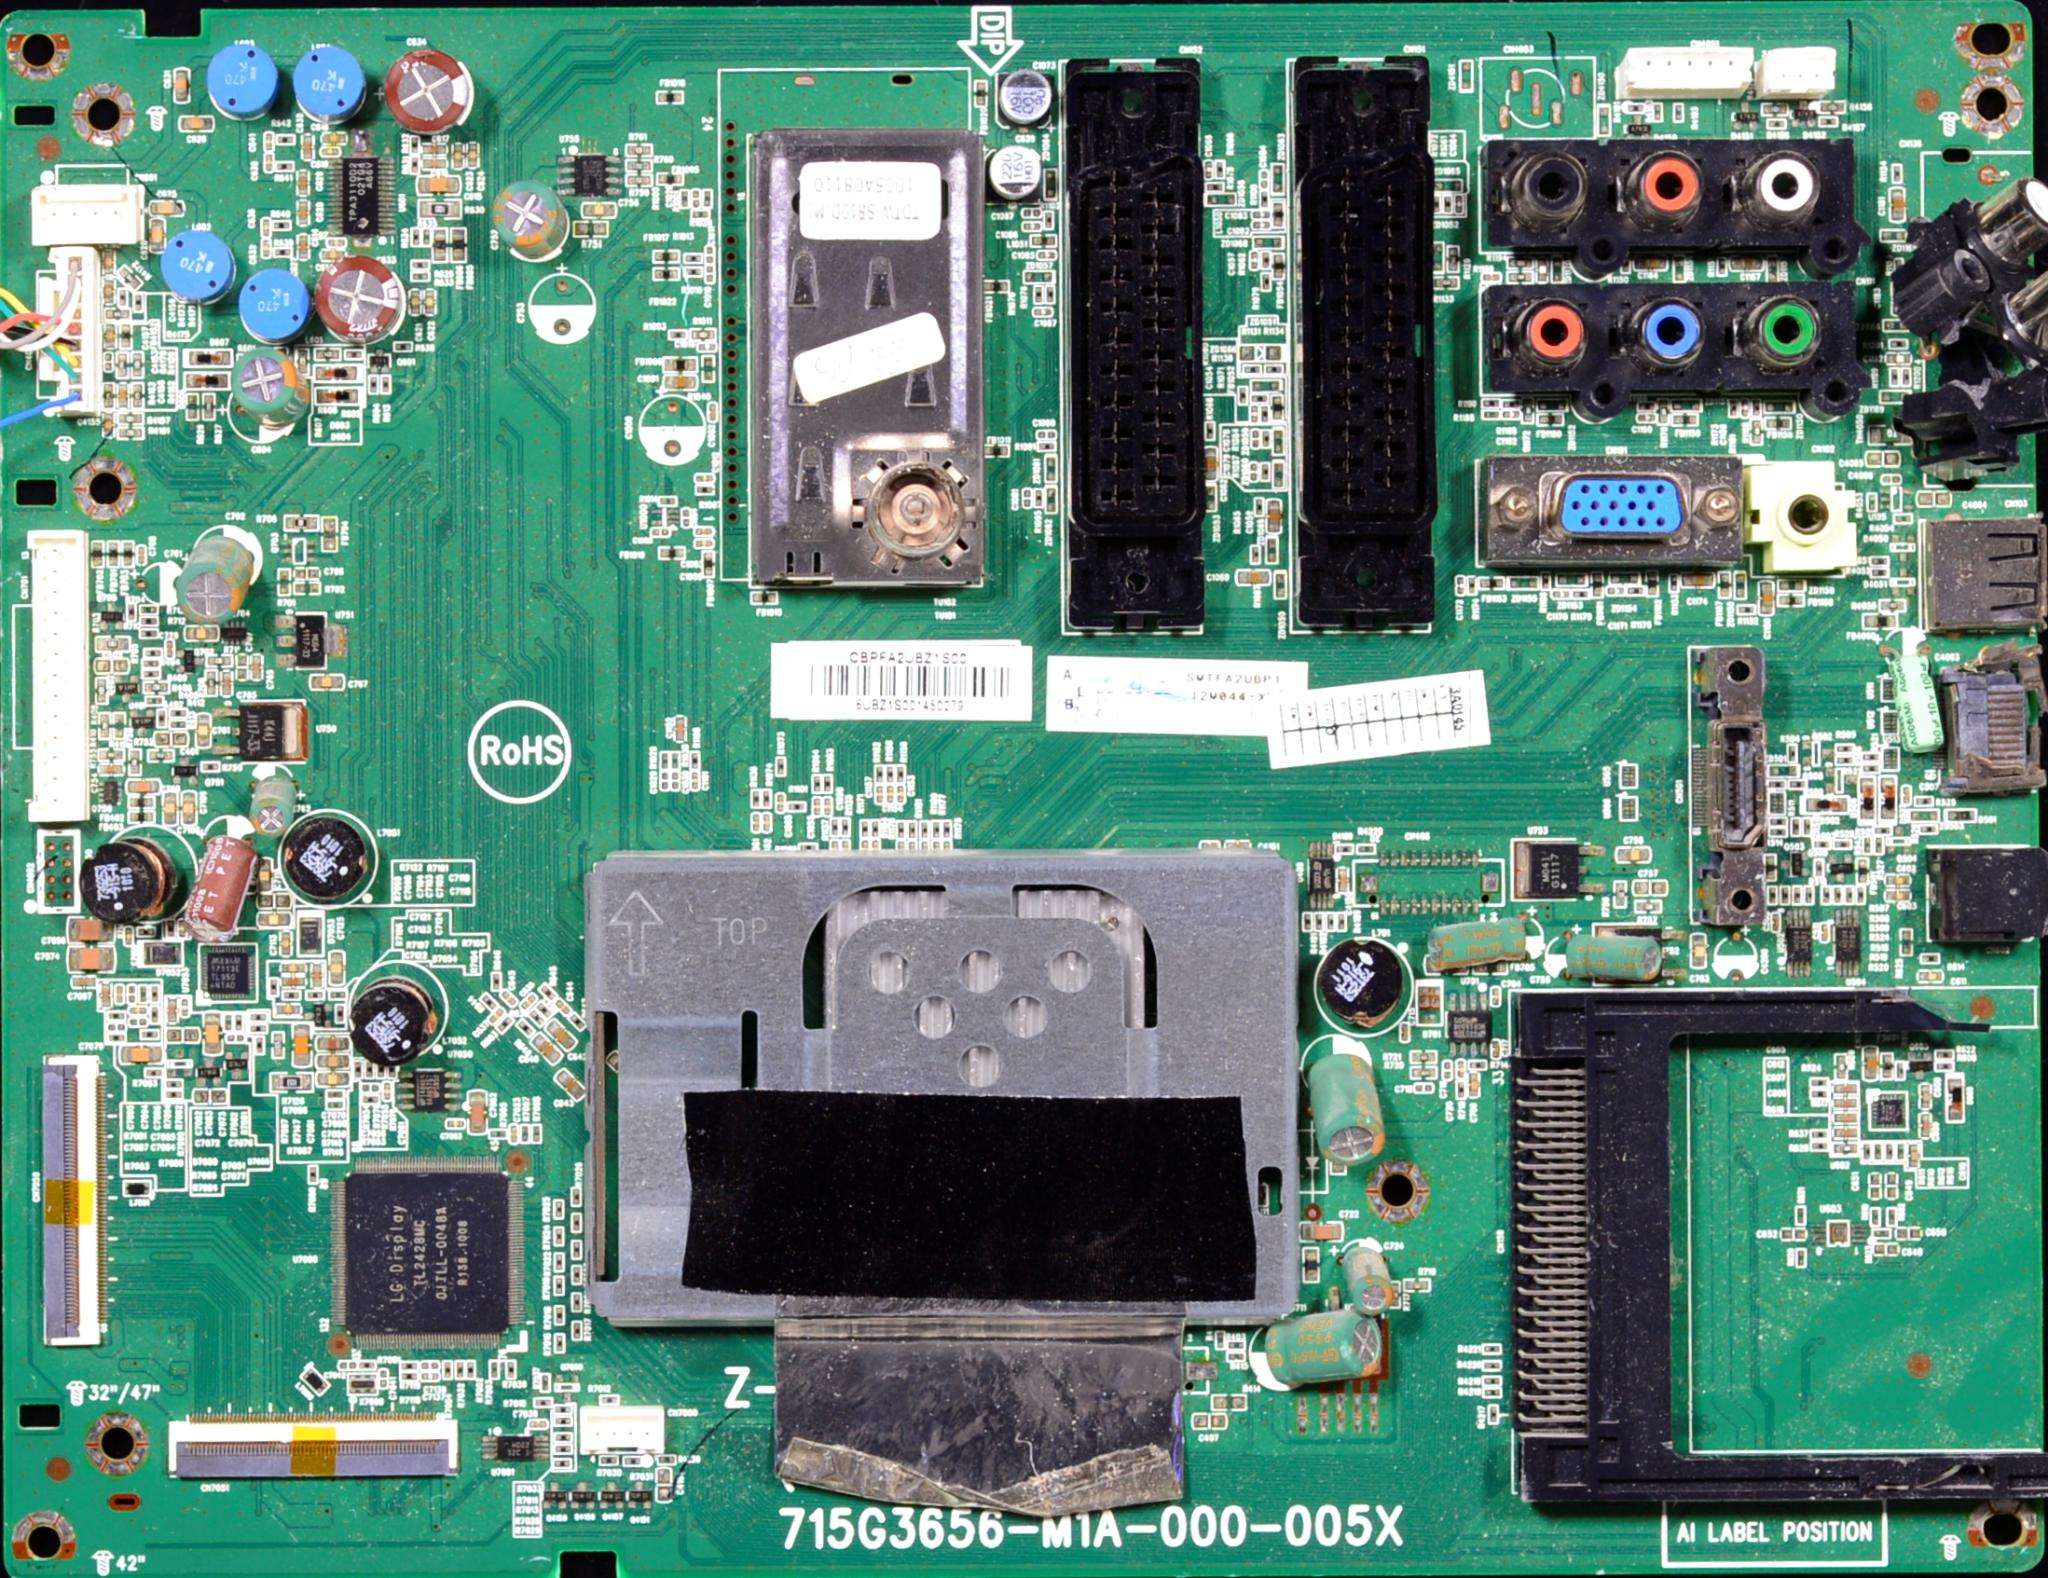Capacitor Jumper: (68, 946, 114, 971), (68, 917, 114, 941), (550, 1071, 588, 1101), (530, 1033, 563, 1064), (466, 1091, 485, 1129), (547, 1019, 573, 1044), (293, 1024, 310, 1064), (419, 176, 457, 192), (204, 1014, 220, 1051), (328, 948, 345, 983), (94, 633, 128, 650), (1690, 932, 1705, 966), (1760, 580, 1775, 615), (166, 1026, 199, 1041), (1193, 1411, 1226, 1426), (1889, 187, 1904, 220), (149, 201, 182, 215), (582, 202, 615, 217), (1203, 446, 1218, 479), (1915, 491, 1949, 506), (196, 713, 210, 746), (128, 779, 161, 794), (182, 789, 197, 822), (162, 789, 177, 822), (149, 219, 164, 250), (312, 673, 343, 688), (497, 986, 522, 1004), (194, 1087, 224, 1102), (658, 1465, 671, 1498), (663, 375, 696, 388), (1268, 499, 1281, 532), (1682, 572, 1715, 585), (182, 116, 210, 131), (1619, 845, 1647, 860), (316, 1054, 348, 1067), (1730, 255, 1761, 269), (186, 625, 217, 638), (257, 892, 288, 905), (1866, 453, 1901, 464), (320, 1036, 350, 1049), (1864, 1048, 1877, 1077), (258, 859, 272, 888), (1635, 257, 1669, 269), (1236, 570, 1269, 582), (98, 660, 131, 671), (176, 70, 187, 101), (1634, 880, 1665, 892), (250, 653, 263, 680), (318, 1072, 348, 1084), (260, 913, 290, 925), (485, 1006, 505, 1023), (423, 288, 436, 313), (1831, 1096, 1859, 1107), (466, 141, 477, 169), (280, 961, 307, 973), (275, 1003, 302, 1014), (1906, 1142, 1919, 1165), (293, 567, 320, 578), (98, 761, 124, 772), (517, 991, 535, 1008), (280, 930, 292, 955), (282, 975, 307, 986), (71, 976, 96, 988), (166, 996, 177, 1021), (1833, 1111, 1857, 1122), (1869, 1172, 1881, 1197), (1781, 1227, 1806, 1238), (220, 670, 232, 695), (446, 1114, 467, 1127), (553, 996, 570, 1013), (312, 961, 323, 985), (1468, 1071, 1480, 1094), (1919, 1082, 1930, 1106), (1886, 1172, 1897, 1195), (302, 136, 313, 159), (423, 144, 446, 156), (451, 143, 462, 166), (1887, 353, 1910, 365), (1917, 970, 1944, 980), (1831, 1081, 1857, 1091), (507, 1121, 520, 1140), (104, 277, 114, 303), (99, 983, 111, 1004), (103, 323, 114, 345), (1833, 1125, 1857, 1135), (298, 171, 308, 196), (298, 201, 308, 225), (409, 288, 419, 313), (118, 383, 128, 408), (103, 411, 113, 436), (237, 653, 247, 678), (1337, 865, 1347, 890), (1886, 888, 1910, 898), (1920, 1112, 1930, 1135), (1897, 1227, 1920, 1237), (1874, 1243, 1897, 1253), (323, 133, 346, 143), (298, 235, 308, 259), (321, 250, 341, 262), (674, 716, 684, 739), (1886, 874, 1909, 883), (103, 250, 113, 272), (694, 472, 716, 482), (1819, 922, 1829, 941), (529, 1417, 548, 1427), (694, 525, 714, 535), (885, 782, 895, 802), (124, 927, 134, 945), (1491, 986, 1501, 1004), (179, 998, 189, 1016), (378, 1367, 388, 1386), (321, 148, 340, 157), (1034, 305, 1052, 315), (1637, 413, 1655, 423), (1455, 575, 1465, 593), (875, 784, 885, 802), (1771, 912, 1781, 930), (177, 918, 187, 937), (1226, 839, 1248, 847), (114, 983, 123, 1003), (129, 1004, 146, 1014), (129, 1014, 146, 1024), (424, 159, 444, 167), (1205, 159, 1213, 179), (1259, 171, 1269, 187), (1022, 222, 1042, 230), (1741, 398, 1750, 418), (1248, 404, 1258, 421), (1021, 489, 1031, 506), (136, 544, 144, 564), (812, 797, 822, 814), (1443, 1059, 1451, 1077), (1415, 1082, 1433, 1091), (338, 1359, 356, 1367), (421, 1371, 439, 1379), (263, 154, 272, 172), (1455, 194, 1463, 212), (1251, 211, 1269, 219), (262, 239, 270, 257), (1249, 250, 1258, 269), (709, 403, 717, 421), (1036, 429, 1054, 438), (1882, 474, 1901, 482), (1607, 587, 1625, 595), (1553, 588, 1571, 597), (896, 782, 905, 801), (752, 812, 761, 830), (108, 1023, 124, 1031), (227, 1033, 244, 1041), (421, 1359, 437, 1367), (326, 237, 343, 245), (1501, 409, 1518, 418), (653, 527, 669, 535), (696, 539, 712, 547), (1902, 786, 1910, 802), (1251, 459, 1258, 479), (1456, 1059, 1465, 1074), (383, 1082, 391, 1097), (262, 220, 270, 235), (1201, 840, 1216, 849), (129, 983, 136, 1001), (1400, 1021, 1407, 1039), (265, 133, 272, 151), (1037, 250, 1055, 257), (706, 264, 712, 282), (683, 507, 689, 525), (777, 792, 784, 811), (824, 796, 830, 814), (762, 812, 769, 830), (1491, 1039, 1498, 1056), (693, 189, 699, 206), (1253, 220, 1269, 227), (706, 247, 712, 264), (699, 343, 716, 350), (104, 353, 111, 370), (691, 771, 698, 787), (661, 771, 668, 787), (671, 771, 678, 787), (363, 1082, 378, 1089), (1022, 211, 1042, 215), (830, 839, 838, 850), (908, 839, 916, 850), (1253, 428, 1258, 446), (931, 839, 939, 849), (896, 840, 905, 850), (872, 837, 878, 849), (842, 840, 848, 852), (862, 839, 868, 849), (943, 839, 949, 849), (921, 840, 928, 850)
Connector: (43, 1053, 108, 1344), (169, 1411, 457, 1472), (1617, 46, 1755, 98), (1756, 46, 1834, 96), (580, 1406, 664, 1450)
IC: (325, 1159, 525, 1348), (1514, 840, 1606, 897), (330, 159, 393, 232), (214, 706, 297, 754), (277, 613, 340, 666), (200, 943, 255, 998), (477, 1427, 552, 1467), (1447, 993, 1491, 1053), (560, 154, 620, 196), (401, 1067, 459, 1106), (1306, 840, 1334, 905), (1786, 910, 1811, 973), (1836, 912, 1859, 973), (1869, 1092, 1904, 1125), (1811, 1222, 1866, 1242), (1882, 487, 1914, 511), (224, 622, 247, 641)
Resistor Jumper: (419, 201, 461, 217), (118, 262, 144, 287), (573, 220, 606, 235), (154, 731, 187, 746), (1213, 1394, 1244, 1409), (285, 516, 316, 530), (202, 391, 215, 419), (529, 1008, 548, 1026), (1634, 898, 1660, 912), (570, 1288, 585, 1311), (101, 383, 114, 408), (119, 426, 144, 439), (1818, 101, 1846, 113), (1901, 927, 1912, 953), (553, 1303, 567, 1326), (278, 569, 290, 595), (99, 711, 111, 738), (1614, 880, 1625, 907), (515, 1016, 532, 1034), (552, 1251, 567, 1271), (1410, 1049, 1435, 1061), (626, 143, 651, 154), (626, 159, 651, 171), (691, 328, 716, 340), (131, 351, 142, 376), (116, 351, 128, 376), (131, 383, 142, 408), (129, 749, 141, 774), (553, 1273, 567, 1295), (186, 391, 196, 419), (489, 971, 504, 990), (568, 1238, 583, 1256), (1833, 1140, 1856, 1152), (113, 711, 124, 734), (99, 748, 123, 759), (553, 1197, 567, 1217), (552, 1225, 565, 1245), (552, 1333, 565, 1353), (625, 174, 651, 184), (103, 308, 129, 318), (570, 1212, 582, 1233), (570, 1318, 582, 1339), (481, 991, 497, 1006), (1761, 103, 1786, 113), (315, 348, 340, 358), (118, 413, 142, 423), (295, 582, 320, 592), (149, 749, 174, 759), (1412, 1066, 1435, 1076), (1509, 257, 1533, 267), (1509, 272, 1533, 282), (297, 348, 307, 371), (1881, 598, 1904, 608), (535, 1000, 550, 1014), (570, 1185, 583, 1202), (532, 1121, 542, 1142), (144, 681, 166, 691), (1819, 116, 1838, 128), (572, 1263, 583, 1281), (1786, 743, 1798, 761), (905, 819, 916, 837), (1919, 822, 1937, 834), (1625, 103, 1645, 113), (144, 1066, 164, 1076), (520, 1122, 530, 1142), (1794, 1203, 1804, 1223), (489, 1358, 499, 1377), (442, 1358, 452, 1377), (1488, 1402, 1498, 1422), (1867, 491, 1877, 511), (1914, 796, 1934, 806), (1874, 834, 1884, 854), (1659, 398, 1667, 421), (335, 1003, 345, 1021), (139, 1028, 157, 1038), (1884, 1140, 1894, 1159), (1887, 1207, 1897, 1225), (1796, 1246, 1806, 1265), (1483, 1343, 1501, 1353), (505, 1358, 515, 1376), (1483, 1374, 1501, 1384), (540, 1371, 550, 1389), (600, 1392, 618, 1402), (553, 1442, 572, 1452), (553, 1457, 572, 1467), (421, 227, 431, 245), (411, 259, 429, 269), (1259, 272, 1269, 290), (1254, 497, 1264, 516), (1894, 514, 1912, 524), (139, 603, 157, 613), (1738, 603, 1756, 613), (200, 761, 219, 771), (822, 772, 832, 791), (751, 787, 761, 806), (830, 817, 840, 835), (931, 819, 941, 837), (1872, 825, 1891, 835), (1804, 883, 1814, 902), (235, 1009, 244, 1029), (1896, 1059, 1906, 1076), (1862, 1140, 1871, 1160), (1872, 1227, 1889, 1237), (1481, 1359, 1501, 1367), (553, 1414, 570, 1424), (553, 1430, 570, 1440), (273, 219, 290, 229), (273, 247, 290, 257), (684, 267, 701, 277), (1481, 272, 1501, 280), (668, 330, 688, 338), (1243, 365, 1263, 373), (1483, 409, 1500, 419), (124, 603, 134, 620), (885, 764, 895, 781), (875, 764, 885, 781), (812, 776, 822, 792), (762, 787, 770, 807), (1770, 816, 1786, 825), (1791, 817, 1801, 834), (896, 819, 905, 839), (1821, 885, 1831, 902), (1844, 885, 1854, 902), (1314, 912, 1324, 928), (106, 1031, 124, 1039), (1935, 1061, 1954, 1069), (365, 1058, 373, 1076), (1456, 1079, 1465, 1097), (1654, 103, 1662, 121), (1675, 103, 1683, 121), (1811, 1129, 1829, 1137), (1809, 1140, 1828, 1149), (1897, 1139, 1906, 1157), (1874, 1140, 1882, 1159), (308, 1164, 316, 1182), (1871, 1205, 1879, 1223), (1768, 119, 1786, 128), (1215, 1329, 1223, 1348), (399, 1359, 418, 1367), (466, 1359, 474, 1377), (456, 1359, 464, 1377), (1483, 1386, 1501, 1394), (534, 1396, 552, 1404), (411, 136, 419, 154), (658, 1454, 676, 1462), (623, 1455, 641, 1464), (1044, 211, 1052, 229), (409, 272, 427, 280), (1034, 285, 1042, 303), (393, 341, 411, 350), (1891, 368, 1899, 386), (368, 375, 376, 393), (1639, 401, 1657, 409), (1205, 419, 1213, 438), (1037, 441, 1055, 449), (1261, 461, 1269, 479), (696, 486, 714, 494), (658, 496, 676, 504), (1251, 545, 1259, 564), (1869, 569, 1887, 577), (1468, 575, 1476, 593), (1572, 588, 1591, 597), (1838, 756, 1856, 764), (777, 756, 785, 774), (1768, 779, 1786, 787), (787, 801, 805, 809), (860, 819, 868, 837), (920, 820, 928, 839), (1814, 839, 1833, 847), (1862, 835, 1871, 854), (1357, 844, 1375, 852), (1793, 883, 1801, 902), (1337, 910, 1345, 928), (1326, 912, 1334, 930), (360, 1358, 374, 1367), (1206, 181, 1221, 191), (693, 209, 708, 219), (1236, 386, 1246, 401), (1728, 401, 1738, 416), (1337, 842, 1352, 852), (268, 976, 277, 993), (330, 990, 346, 998), (307, 990, 323, 998), (108, 1011, 124, 1019), (250, 1011, 267, 1019), (224, 1013, 232, 1029), (249, 1023, 265, 1031), (353, 1059, 361, 1076), (1811, 1077, 1828, 1086), (1809, 1087, 1826, 1096), (166, 1089, 182, 1097), (361, 1092, 378, 1101), (1228, 1351, 1244, 1359), (277, 134, 293, 143), (600, 1455, 616, 1464), (409, 156, 418, 172), (1216, 159, 1224, 176), (1892, 164, 1901, 181), (1259, 189, 1268, 206), (681, 191, 689, 207), (1443, 196, 1451, 212), (411, 229, 419, 245), (684, 254, 701, 262), (1046, 287, 1054, 303), (345, 350, 361, 358), (1902, 368, 1910, 385), (1483, 398, 1500, 406), (1753, 399, 1761, 416), (1034, 489, 1042, 506), (1871, 555, 1887, 564), (1629, 585, 1645, 593), (141, 617, 157, 625), (141, 628, 157, 637), (146, 646, 162, 655), (144, 660, 161, 668), (142, 670, 159, 678), (146, 696, 162, 704), (169, 708, 186, 716), (659, 751, 668, 767), (896, 764, 905, 781), (1803, 817, 1811, 834), (943, 819, 951, 835), (870, 819, 878, 835), (1770, 827, 1786, 835), (1834, 839, 1851, 847), (1781, 885, 1790, 902), (1833, 885, 1841, 902), (1768, 885, 1776, 902), (542, 985, 553, 996), (282, 990, 302, 996), (485, 1127, 505, 1134), (138, 985, 146, 1000), (255, 1036, 263, 1051), (1470, 1059, 1485, 1067), (1253, 394, 1268, 403), (171, 719, 186, 728), (1862, 751, 1877, 759), (1856, 885, 1864, 900), (166, 920, 174, 935), (399, 1371, 418, 1377), (383, 373, 389, 391), (1263, 428, 1269, 446), (157, 708, 164, 726), (1836, 744, 1854, 751), (691, 751, 698, 769), (151, 1004, 157, 1021), (1935, 1049, 1952, 1056), (555, 1404, 572, 1411), (275, 162, 292, 169), (704, 189, 712, 202), (1433, 194, 1440, 211), (1718, 257, 1725, 273), (119, 290, 126, 307), (134, 293, 141, 310), (1503, 399, 1519, 406), (1670, 574, 1677, 590), (671, 751, 678, 767), (1790, 781, 1806, 787), (842, 817, 848, 834), (1304, 912, 1311, 928), (138, 927, 154, 933), (151, 985, 157, 1000), (166, 1079, 181, 1086), (328, 1089, 343, 1096), (1263, 252, 1269, 267), (1891, 340, 1906, 346), (1266, 365, 1281, 371), (1261, 404, 1268, 419), (1543, 572, 1549, 587), (1864, 762, 1877, 769), (326, 1101, 341, 1106), (1228, 1341, 1243, 1346), (378, 1066, 384, 1074), (389, 1066, 394, 1076)
Transistor: (600, 1479, 623, 1508), (197, 1056, 220, 1084), (628, 1480, 651, 1508), (307, 1003, 333, 1026), (1735, 101, 1758, 128), (1783, 852, 1809, 875), (572, 1480, 593, 1508), (1793, 101, 1816, 126), (177, 648, 202, 671), (174, 758, 197, 782), (1909, 1049, 1930, 1076), (101, 602, 123, 628), (131, 708, 152, 734), (1829, 854, 1851, 880), (227, 1049, 247, 1077), (545, 1480, 565, 1507), (1627, 114, 1649, 138), (116, 676, 138, 698), (370, 350, 389, 371), (98, 782, 119, 802)
